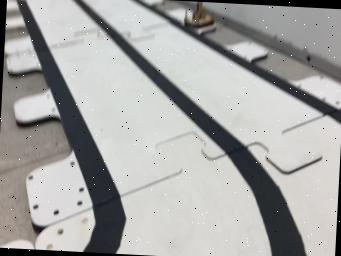stop: (185, 1, 214, 28), (185, 1, 214, 28), (185, 1, 214, 28)
street: (6, 0, 341, 256), (6, 0, 341, 256), (6, 0, 341, 256)
